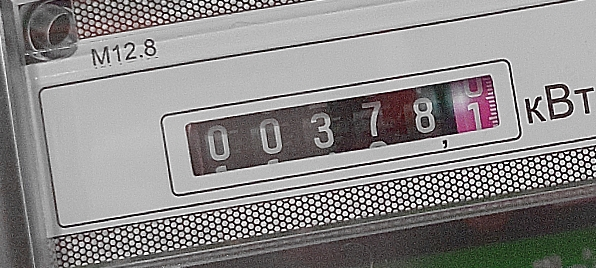0: (203, 119, 235, 163), (256, 114, 285, 156), (461, 74, 485, 99)
1: (463, 97, 486, 131)
3: (306, 108, 337, 151)
7: (358, 97, 386, 138)
8: (409, 93, 438, 135)
screen: (161, 53, 522, 188)
